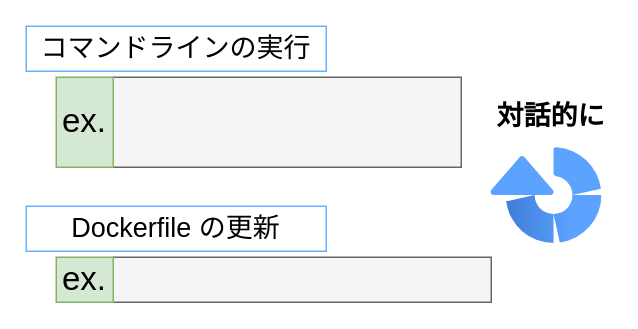
Image size: 638x329. Some labels were removed from this diagram. Each missing label, with the box of its shape:
curl -LO "${URL}"; ls | grep -F tar.gz: (112, 76, 461, 167)
RUN curl -LO "${URL}": (112, 256, 491, 302)
